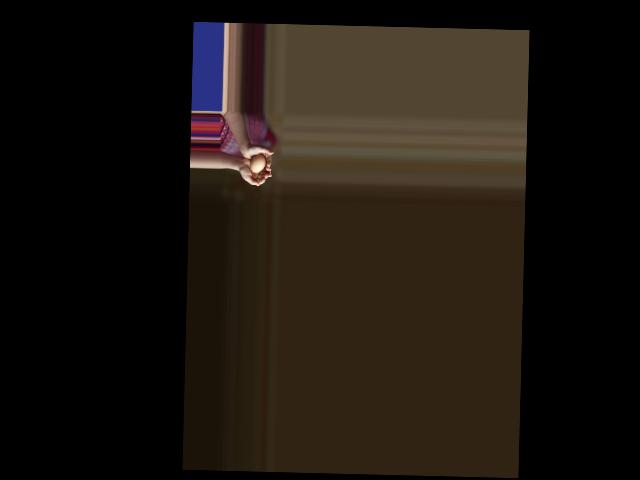egg: (250, 153, 266, 172)
